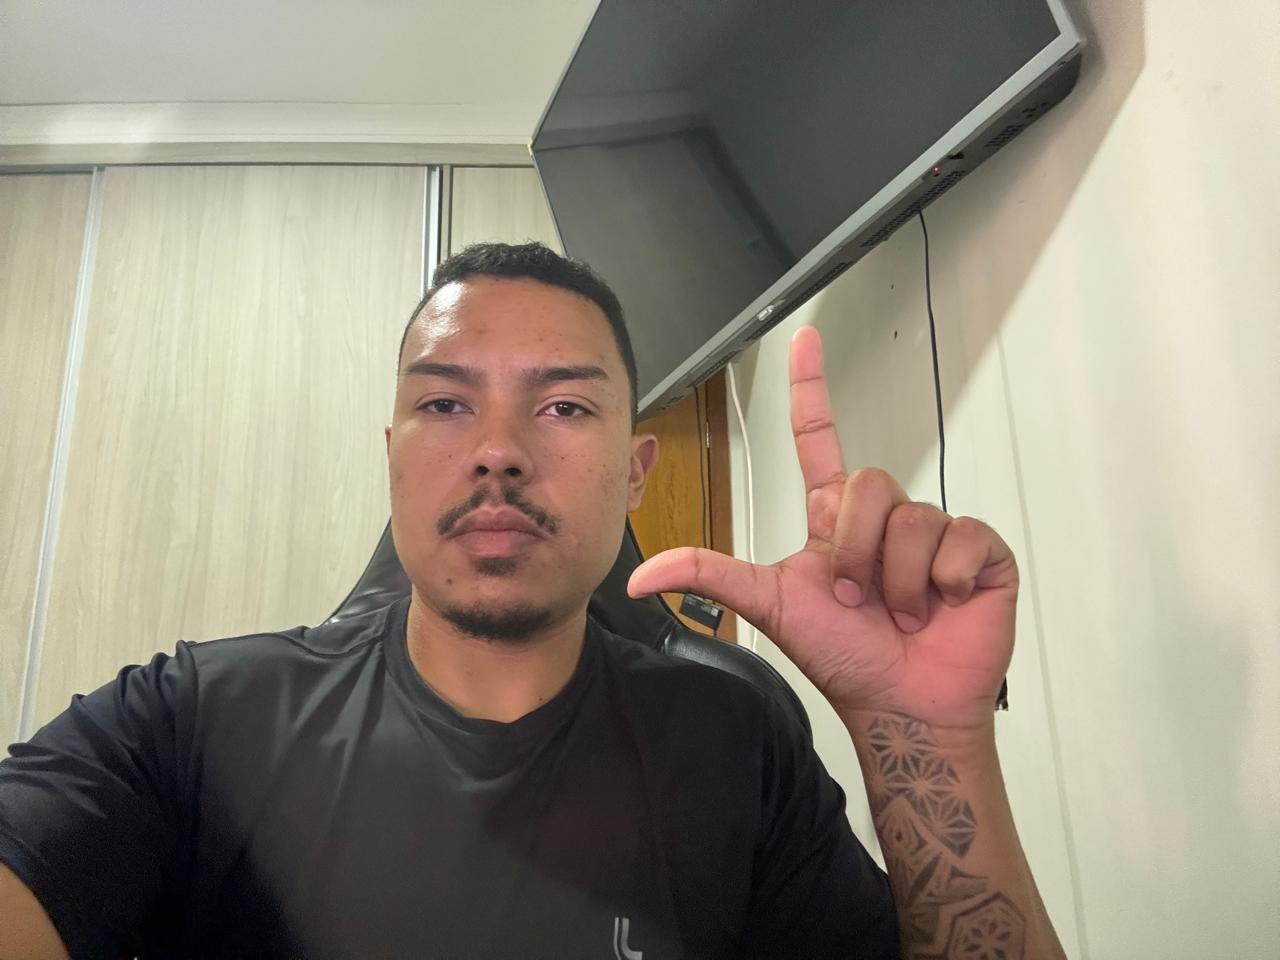l: (623, 314, 1030, 740)
